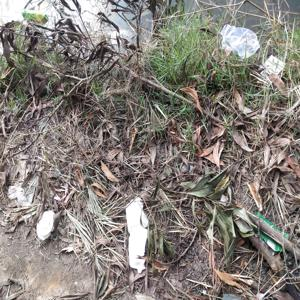plastic: (120, 184, 152, 277), (216, 20, 256, 56), (24, 207, 68, 239), (258, 53, 293, 88)
